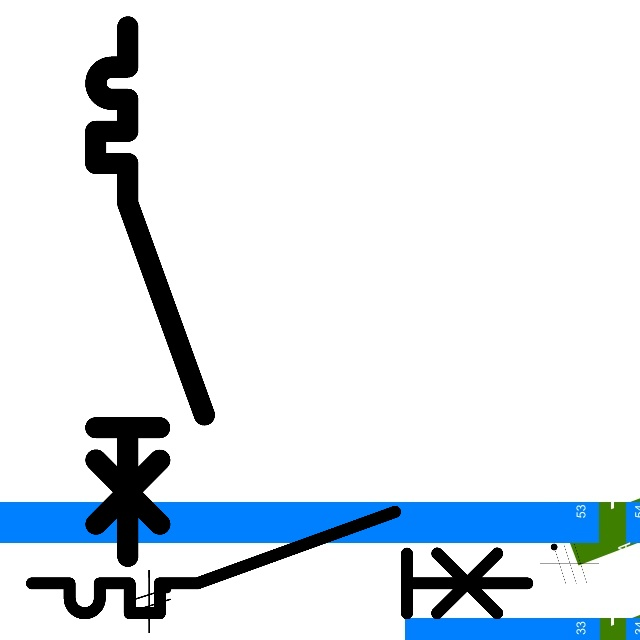interruptor_termomagnetico: (82, 13, 218, 569), (19, 499, 540, 626)
